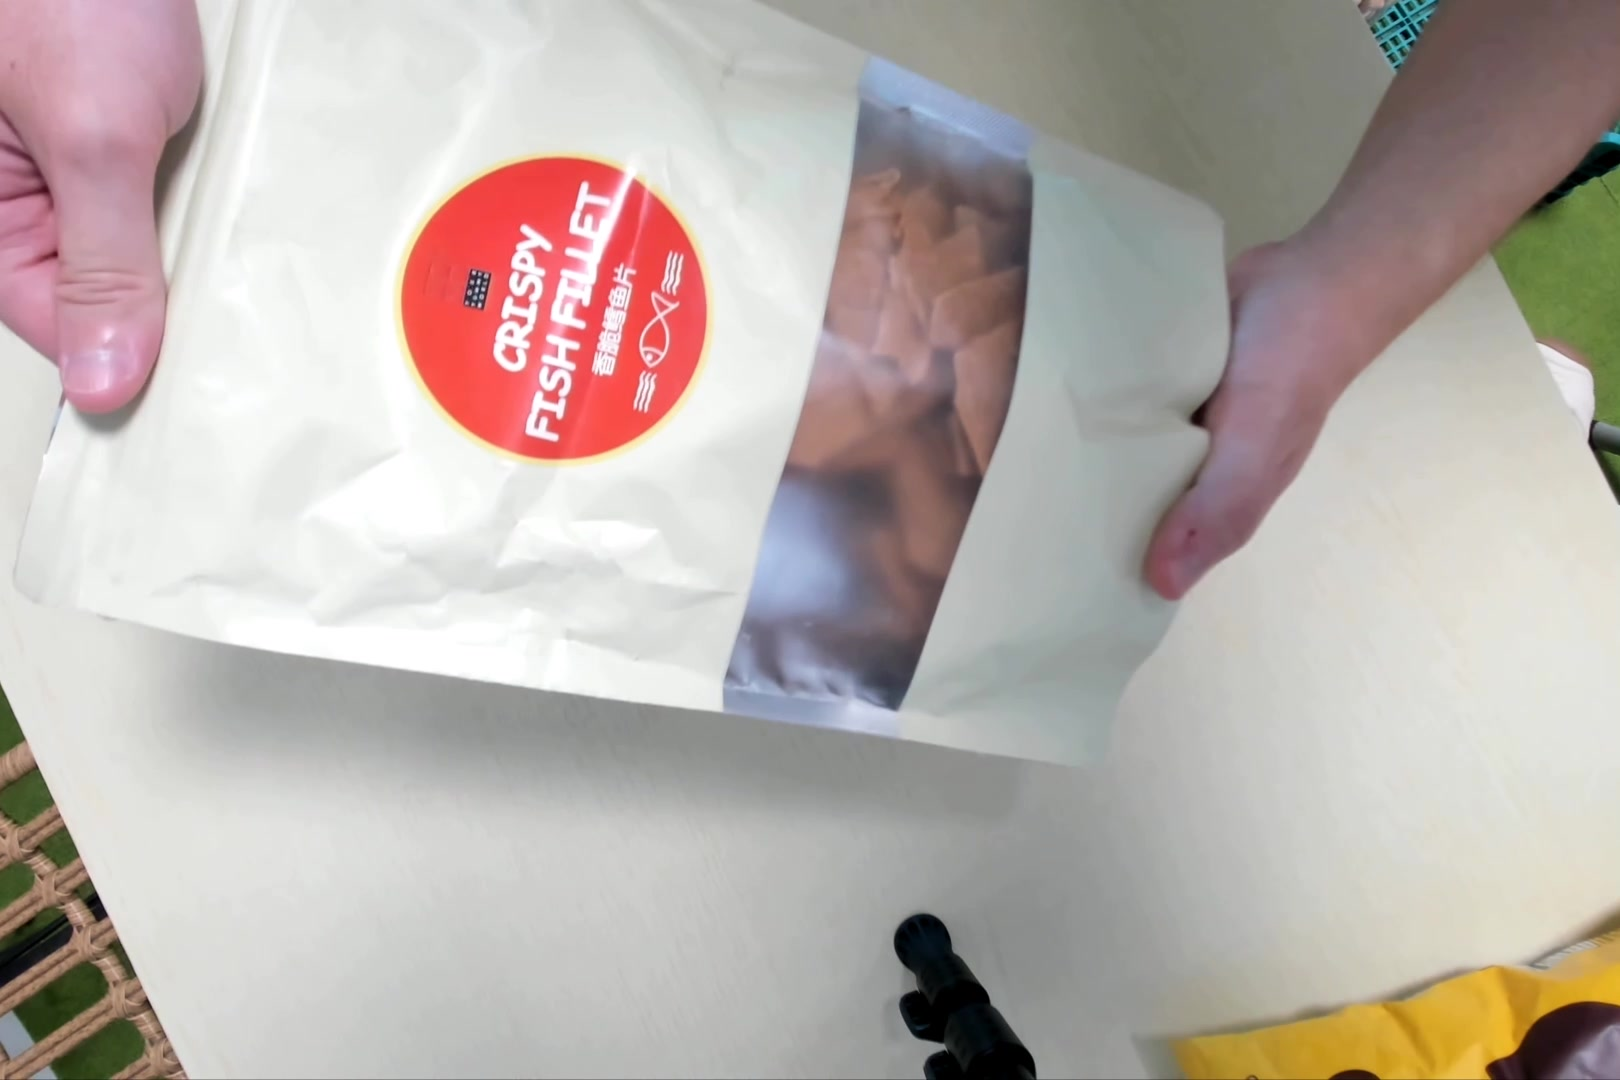PotatoChipsKeropok_100-199g_NonHalal_NonHealthy: (43, 2, 1227, 756)
